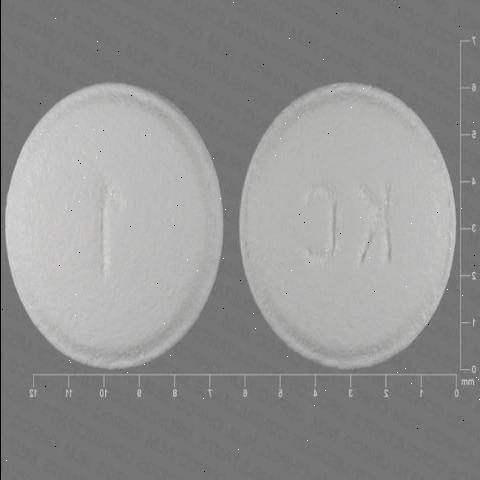Pill: (228, 43, 454, 377), (0, 73, 238, 376)
